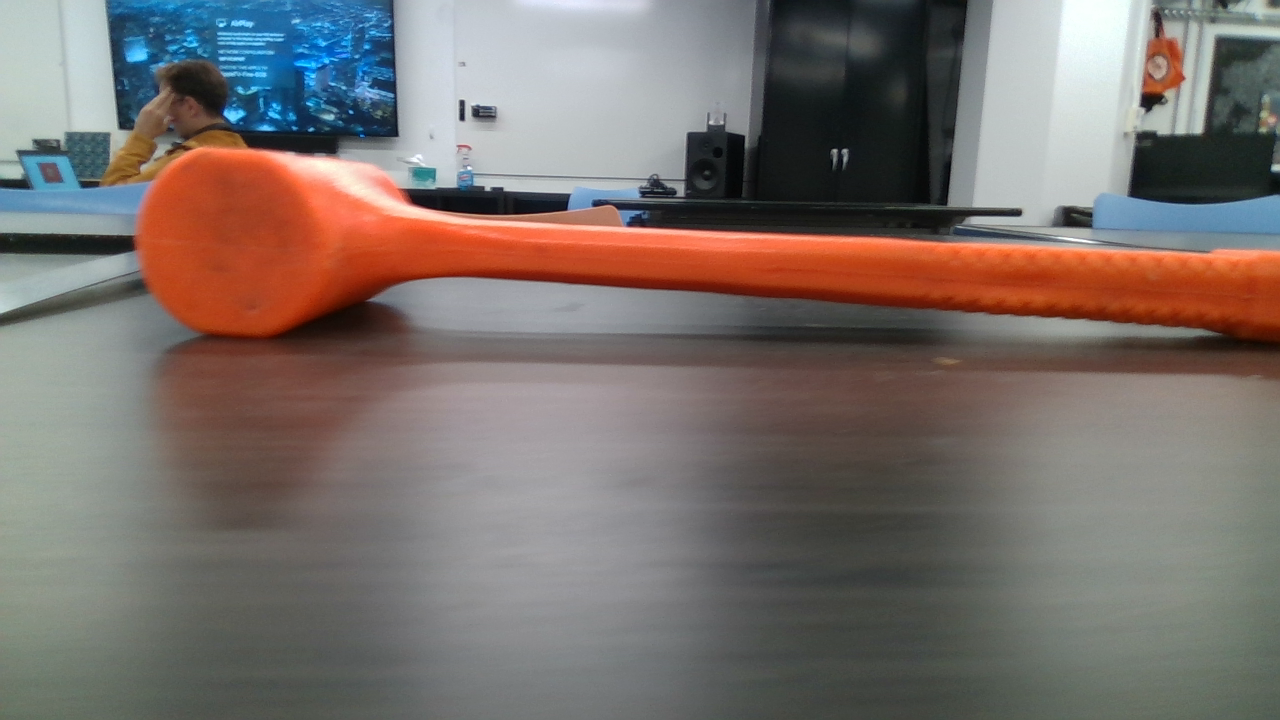Orange Hammer: (137, 146, 1276, 351)
